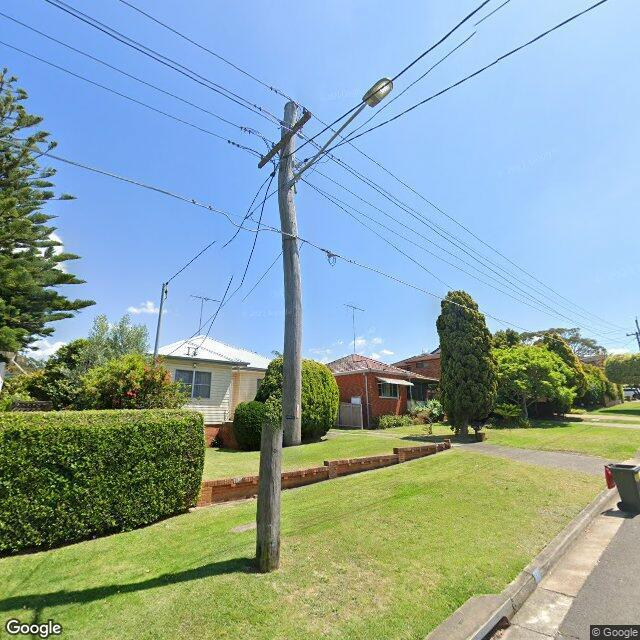crossarm: (257, 110, 312, 170)
steel-pole: (153, 284, 166, 357)
streetlight: (292, 77, 393, 186)
timber-pole: (254, 102, 300, 570)
